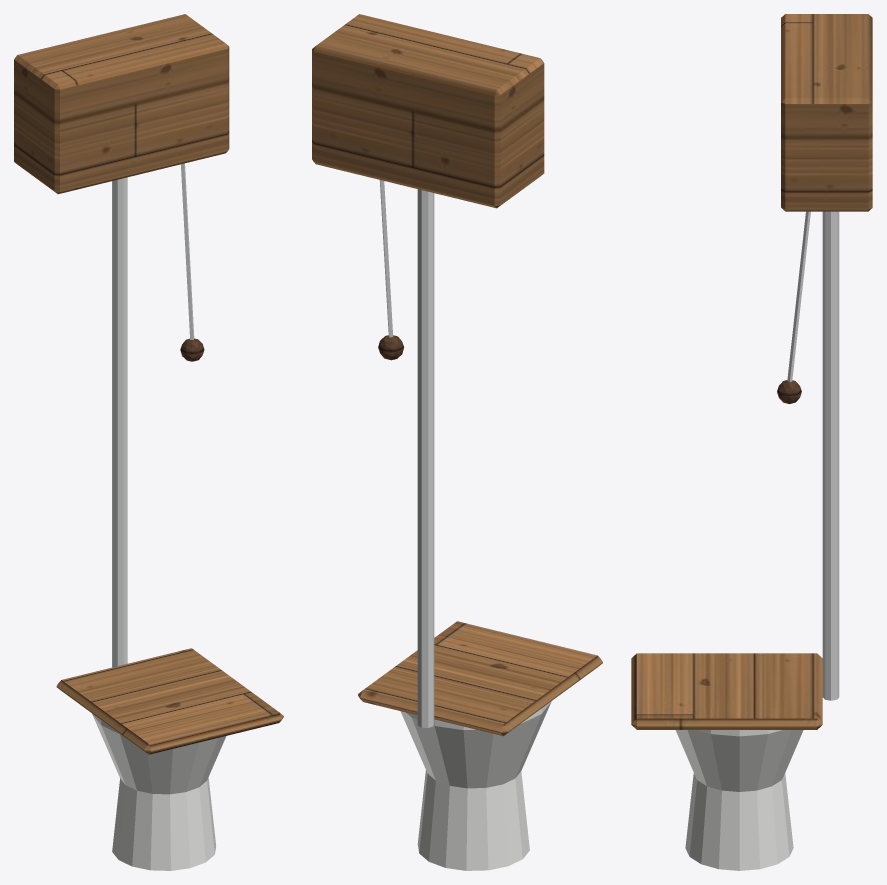
The model's file is toilet_tank.glb.
3 views of the same model, side by side, from view 1: azimuth 30°, elevation 25°; view 2: azimuth 150°, elevation 25°; view 3: azimuth 270°, elevation 25° (orthographic). The views are drawn at different scales.
Parts seen in each view (by area): view 1: toilet_tank_wood, toilet_tank_porcelain, toilet_tank_chrome; view 2: toilet_tank_wood, toilet_tank_porcelain, toilet_tank_chrome; view 3: toilet_tank_wood, toilet_tank_porcelain, toilet_tank_chrome.
Part boxes in pixels (box(x1,y1,x2,y2)): toilet_tank_wood: box(14, 14, 283, 754); toilet_tank_porcelain: box(92, 713, 226, 870); toilet_tank_chrome: box(112, 163, 194, 667); toilet_tank_wood: box(312, 14, 602, 736); toilet_tank_porcelain: box(400, 701, 551, 870); toilet_tank_chrome: box(379, 180, 434, 727); toilet_tank_wood: box(631, 14, 872, 729); toilet_tank_porcelain: box(675, 730, 803, 870); toilet_tank_chrome: box(787, 211, 839, 700).
Size of the model in its own units: 0.5 by 2.1 by 0.58.
4 materials, 2 textured.
